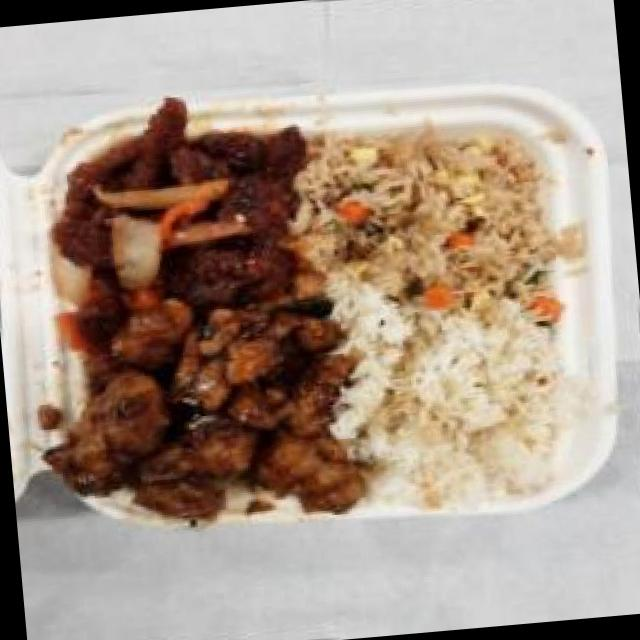Beijing Beef: (36, 92, 326, 320)
Fried Rice: (278, 105, 584, 352)
The Original Orange Chicken: (37, 274, 372, 539)
White Steamed Rice: (338, 304, 579, 516)
